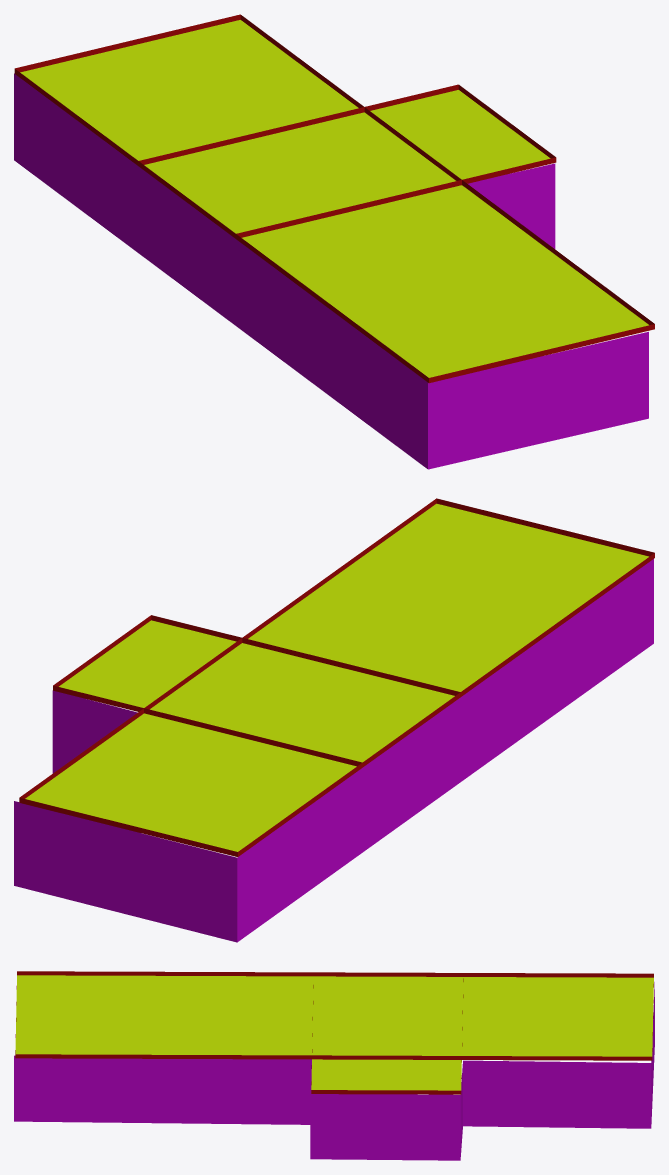
File: sjs_55.glb
The picture shows the model from 3 angles, top to bottom: view 1: azimuth 30°, elevation 25°; view 2: azimuth 150°, elevation 25°; view 3: azimuth 270°, elevation 25°; orthographic projection. The views are drawn at different scales.
Visible parts, largest first — view 1: sjs_55; view 2: sjs_55; view 3: sjs_55.
Boxes of the visible parts, <box> form: sjs_55: <box>14,14,654,469</box>; sjs_55: <box>14,498,654,942</box>; sjs_55: <box>14,971,654,1160</box>.
Bounding box in the file's own units: 22.25 × 6.06 × 50.41.
